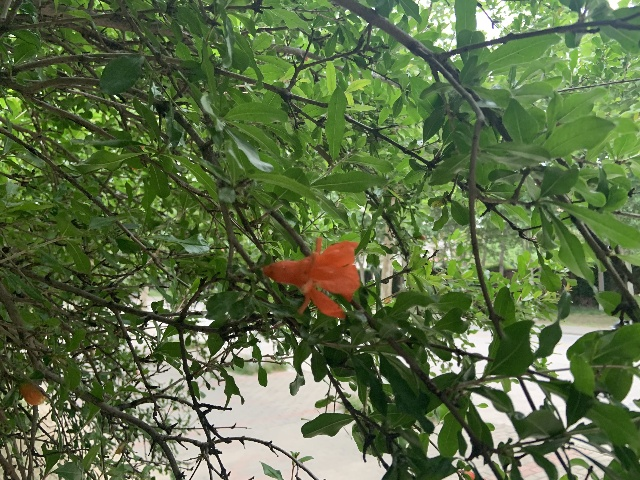bud: (19, 383, 46, 405)
flower: (262, 234, 360, 319)
